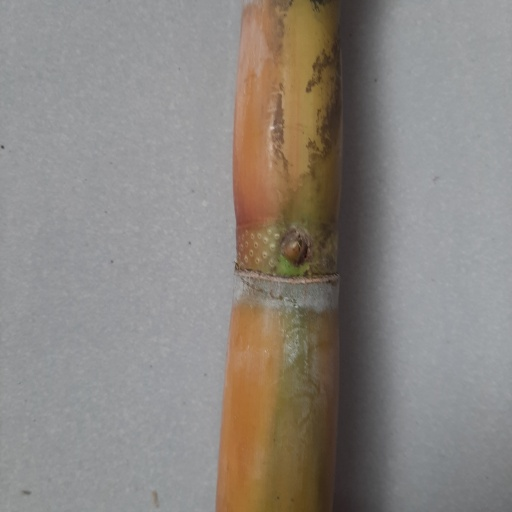Bud: (279, 232, 309, 267)
